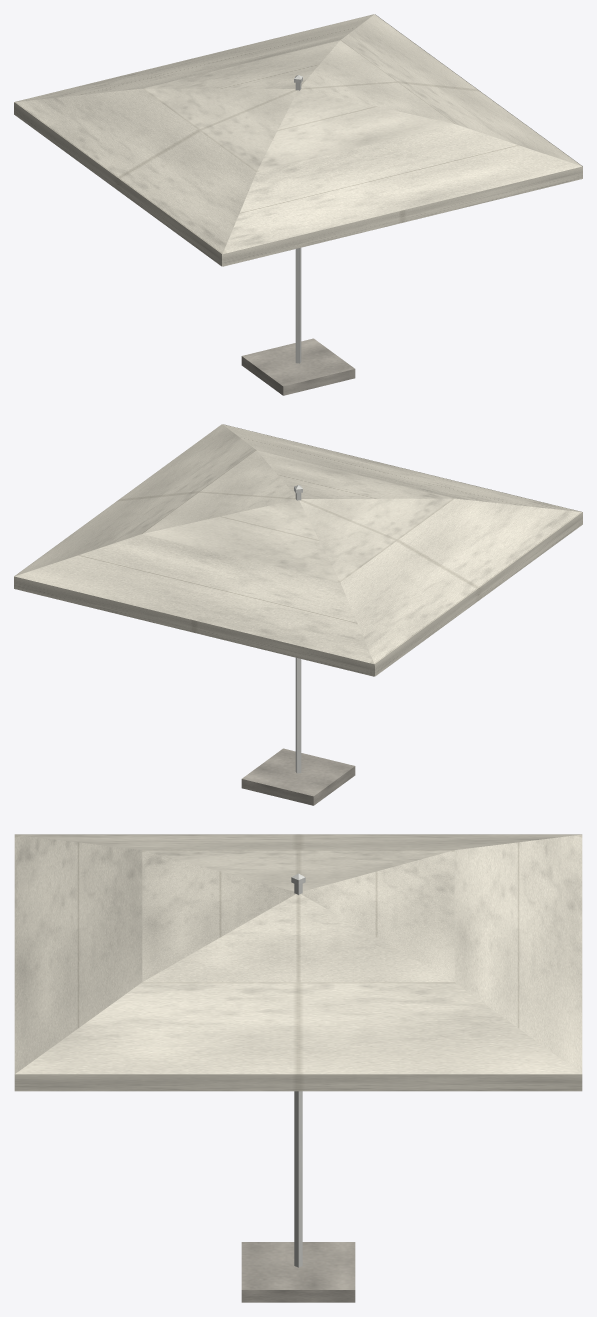
The model's file is SM_Molo_Ombrellone4x4_LOD2.fbx.
3 views of the same model, one above another, from view 1: azimuth 30°, elevation 25°; view 2: azimuth 150°, elevation 25°; view 3: azimuth 270°, elevation 25° (orthographic). The views are drawn at different scales.
Parts seen in each view (by area): view 1: SM_Molo_Ombrellone4x4_LOD2; view 2: SM_Molo_Ombrellone4x4_LOD2; view 3: SM_Molo_Ombrellone4x4_LOD2.
Part boxes in pixels (left/top/right/bottom): SM_Molo_Ombrellone4x4_LOD2: left=14, top=14, right=582, bottom=395; SM_Molo_Ombrellone4x4_LOD2: left=14, top=424, right=582, bottom=805; SM_Molo_Ombrellone4x4_LOD2: left=14, top=834, right=582, bottom=1302.
Bounding box in the file's own units: 401 × 401 × 315.
1 material, 1 textured.
